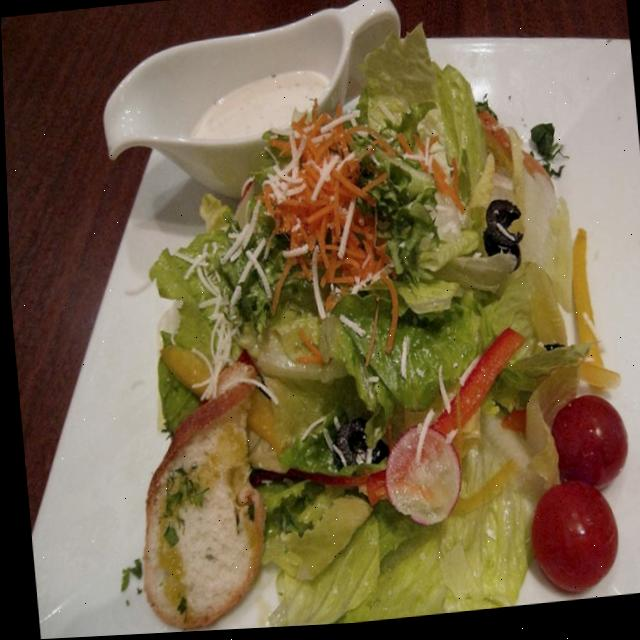蔬菜料理: (18, 0, 640, 639)
